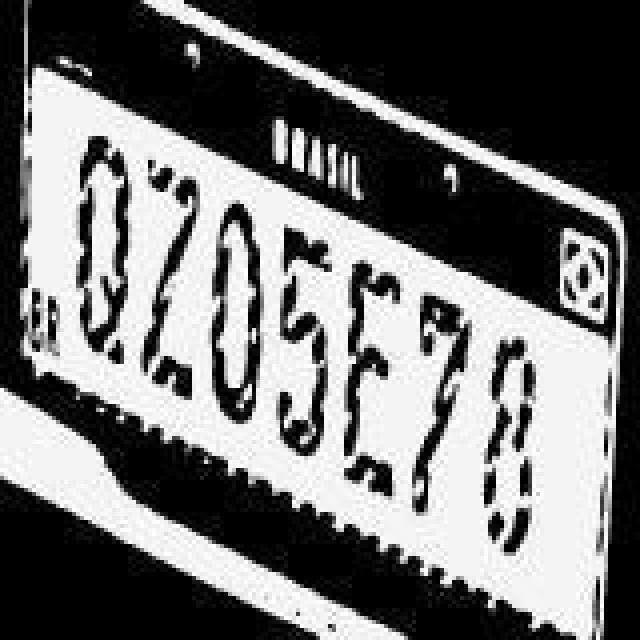5: (274, 220, 334, 468)
7: (408, 280, 472, 528)
8: (480, 334, 536, 562)
E: (338, 248, 398, 504)
O: (208, 192, 264, 432)
Q: (76, 128, 132, 368)
Z: (138, 152, 198, 408)
